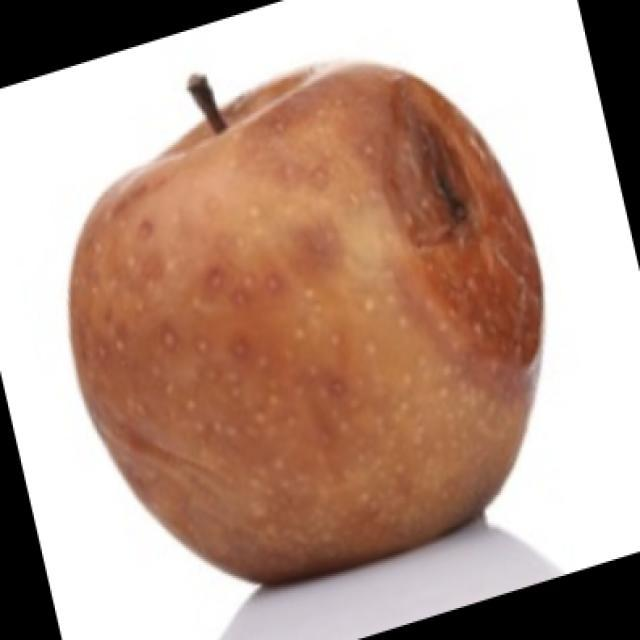Rotten: (45, 55, 543, 578)
